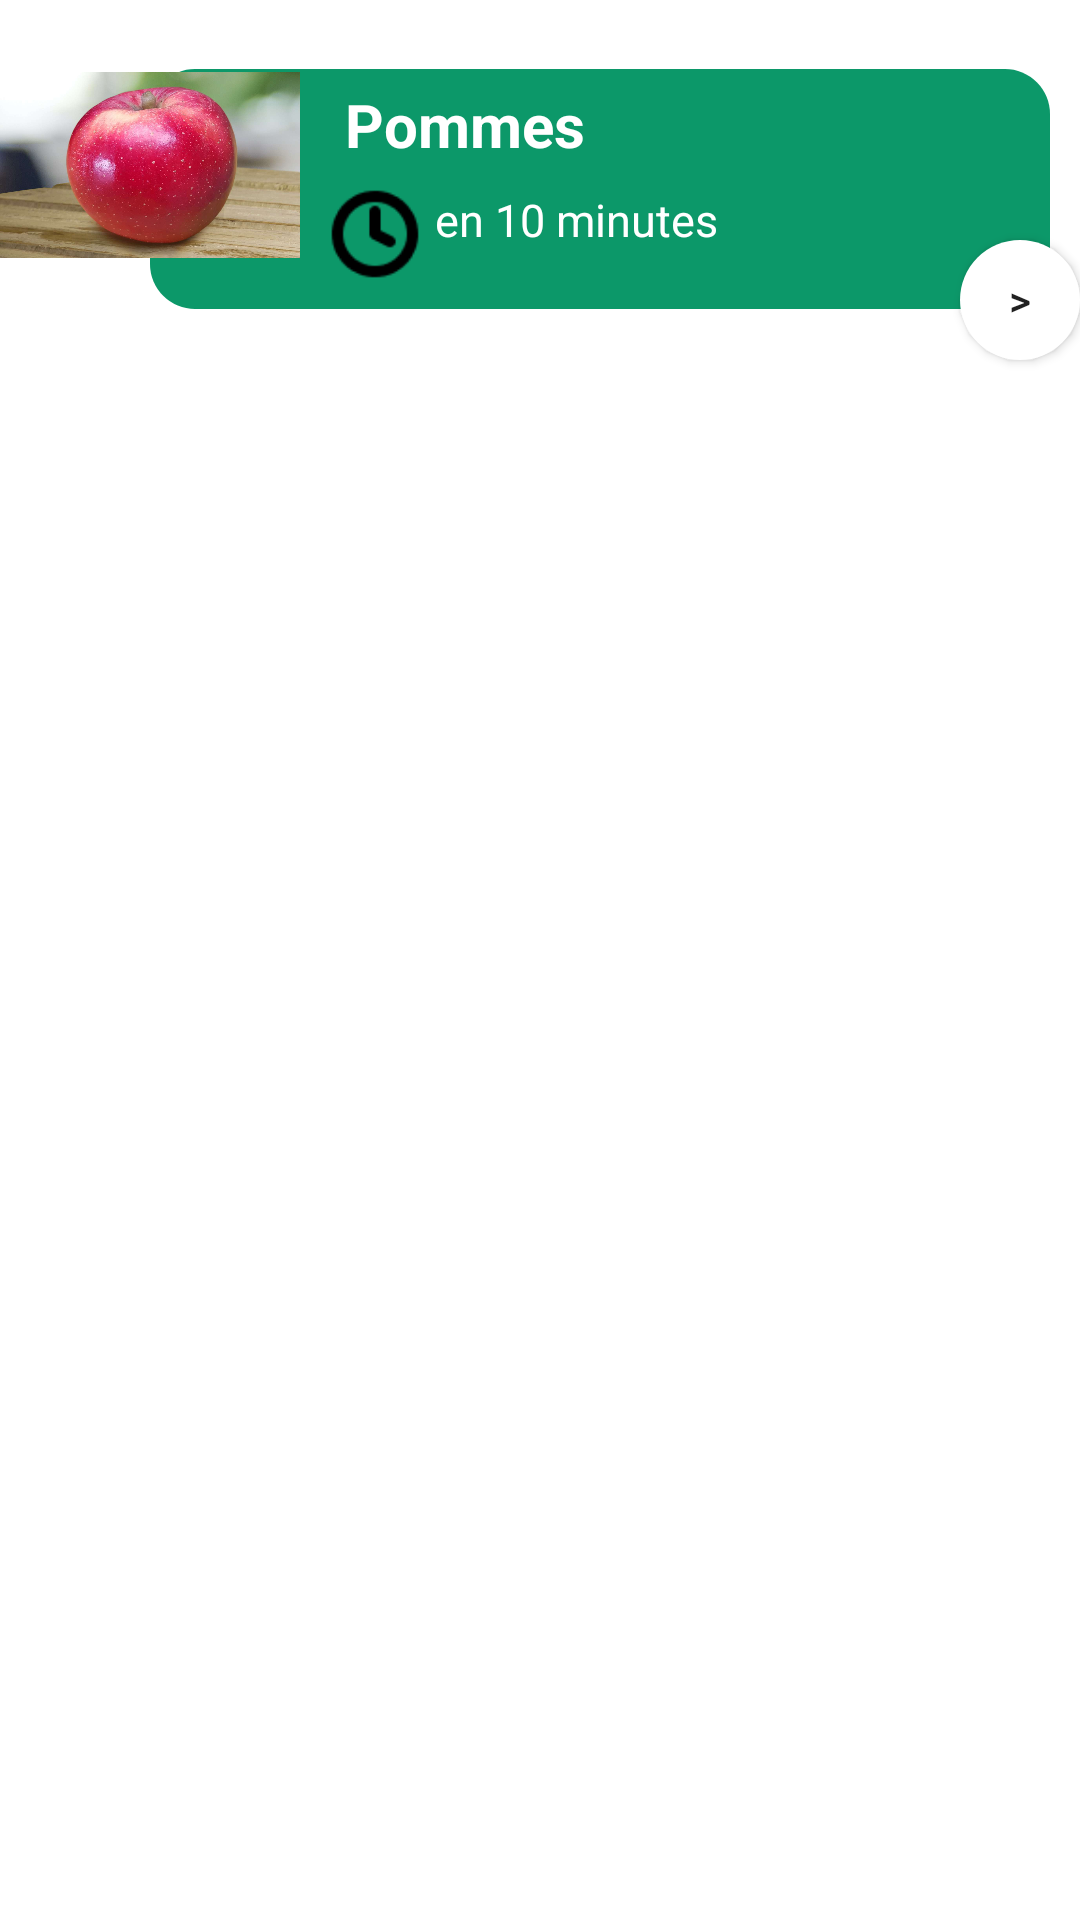

Point at icon controls on the screen. Image size 1080px x 1920px, points as [x,y].
clock: [375,234]
